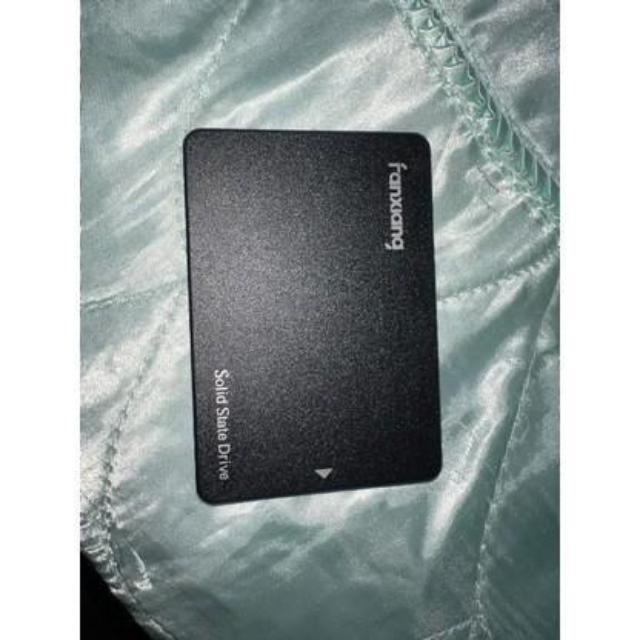DISK: (180, 122, 446, 507)
